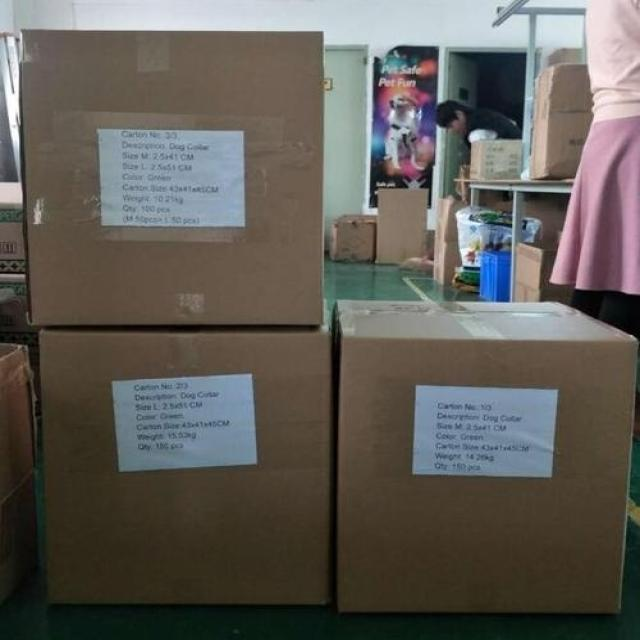box: (331, 299, 639, 613), (20, 27, 322, 326), (39, 299, 332, 605), (0, 271, 43, 466), (527, 64, 594, 179), (0, 473, 43, 630), (0, 341, 35, 505), (509, 231, 575, 310), (377, 190, 430, 265), (435, 196, 473, 285), (329, 214, 380, 261), (470, 138, 523, 183), (0, 182, 25, 274)
